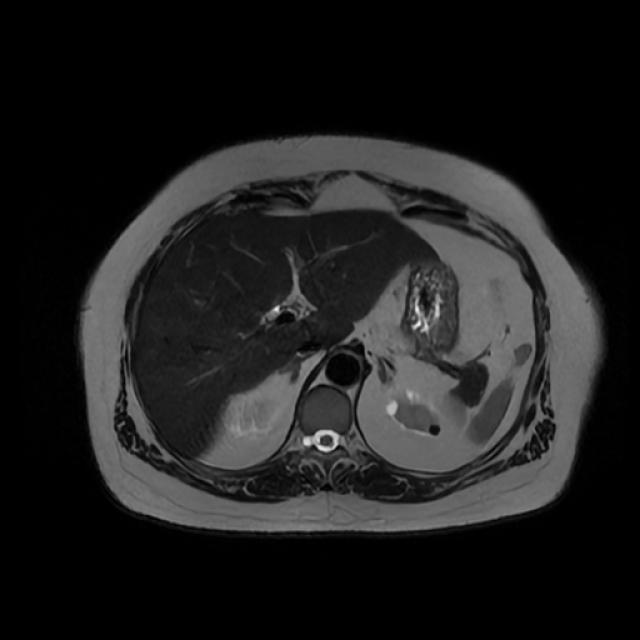sol: (385, 386, 442, 438)
